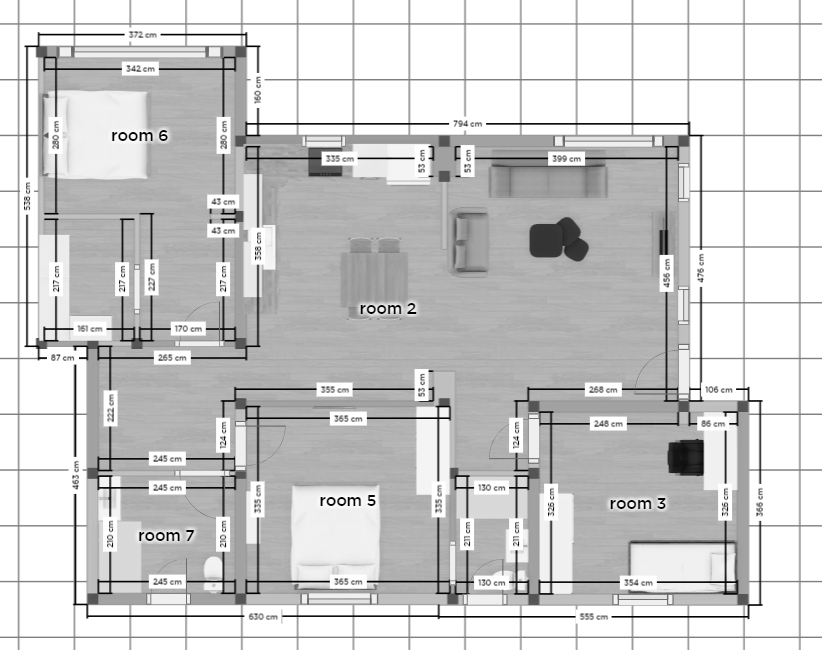window: (58, 44, 225, 61), (555, 130, 662, 151), (299, 591, 379, 606), (612, 592, 674, 607), (676, 286, 692, 327), (676, 162, 692, 203)
